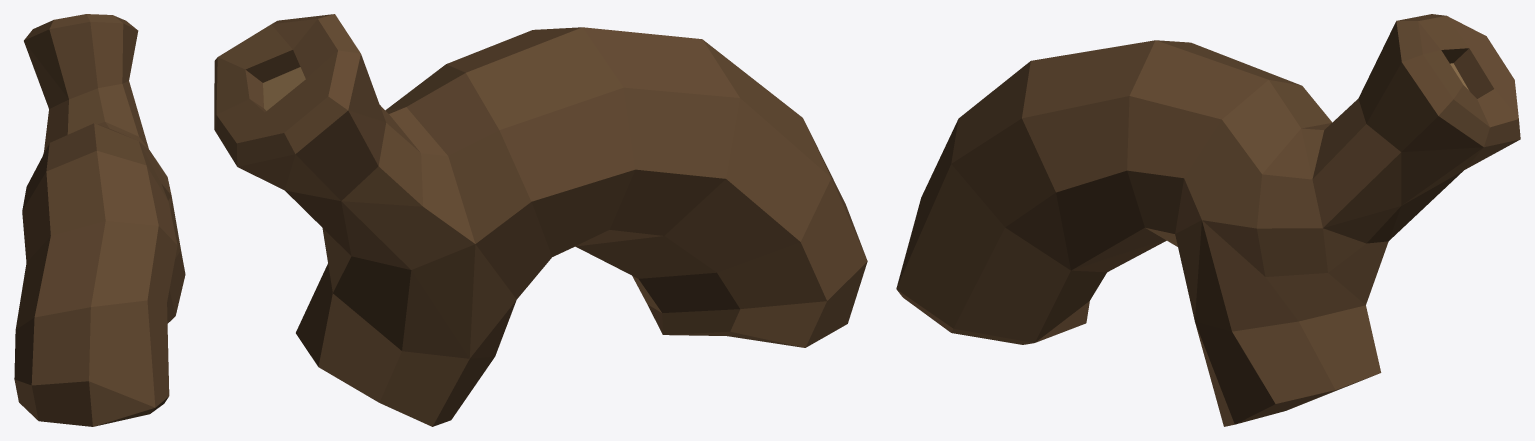
3 renders of one model, left to right at view 1: azimuth 30°, elevation 25°; view 2: azimuth 150°, elevation 25°; view 3: azimuth 270°, elevation 25°, orthographic. The views are drawn at different scales.
Visible parts, largest first — view 1: EM_Root3a_LOD0; view 2: EM_Root3a_LOD0; view 3: EM_Root3a_LOD0.
Boxes of the visible parts, left/top/right/bottom form: EM_Root3a_LOD0: left=14, top=14, right=185, bottom=426; EM_Root3a_LOD0: left=214, top=14, right=867, bottom=426; EM_Root3a_LOD0: left=896, top=14, right=1520, bottom=426.
Size of what is drawn, in the model's own units: 1.56 by 1.61 by 2.21.
